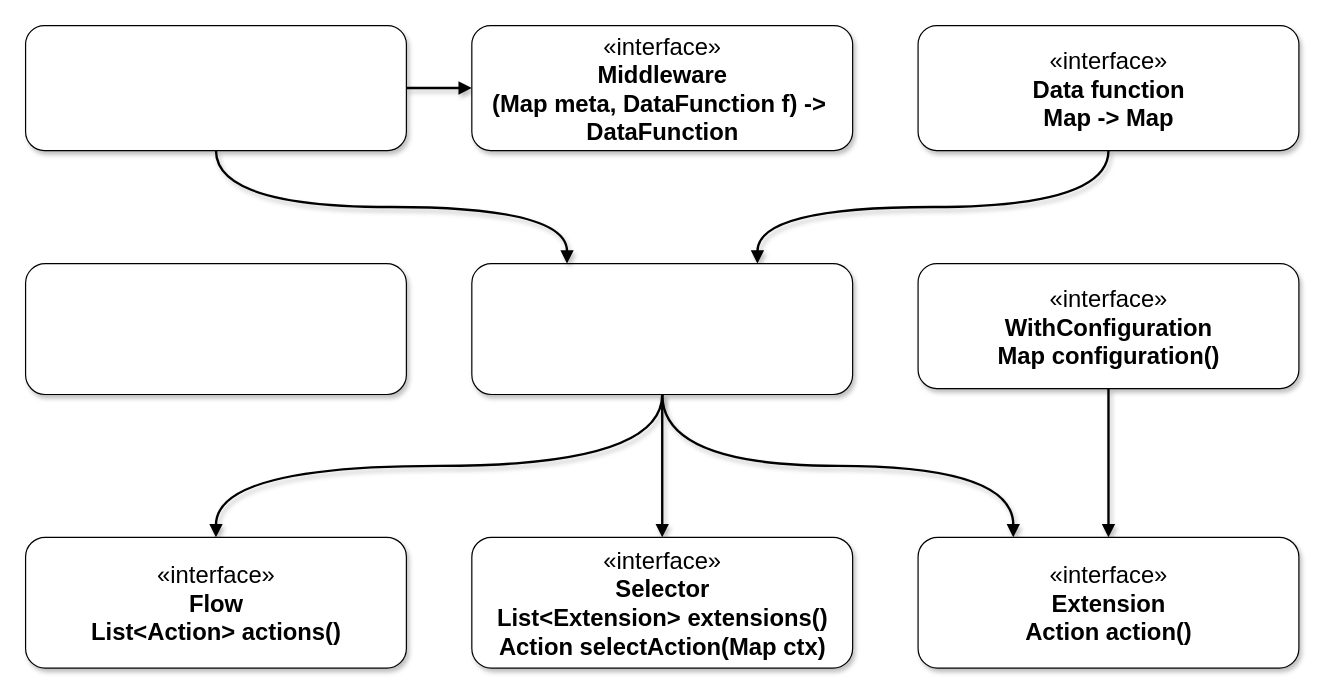
This 1327x697 diagram has some shape labels left out. The centre of each missing label's shape, as x and y in pixels:
«interface» Action: the point at 663,330
«interface» Actor Consumer<Map> -> T: the point at 217,330
«interface» Named String getName(): the point at 217,89
